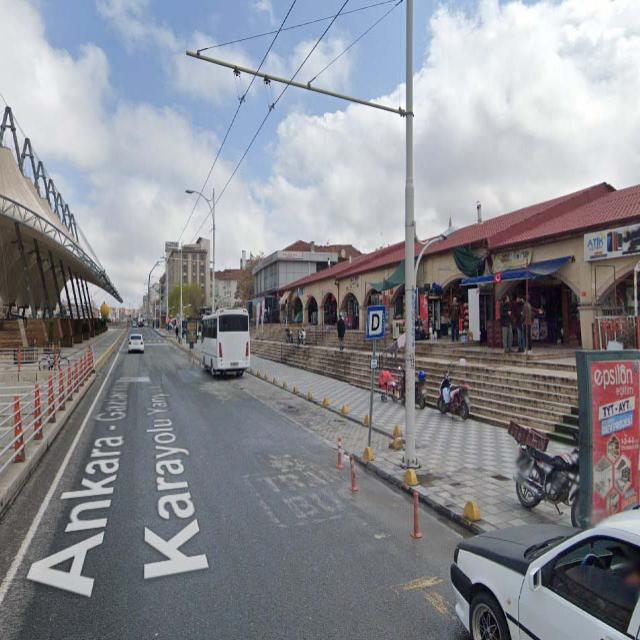durak: (367, 306, 384, 342)
